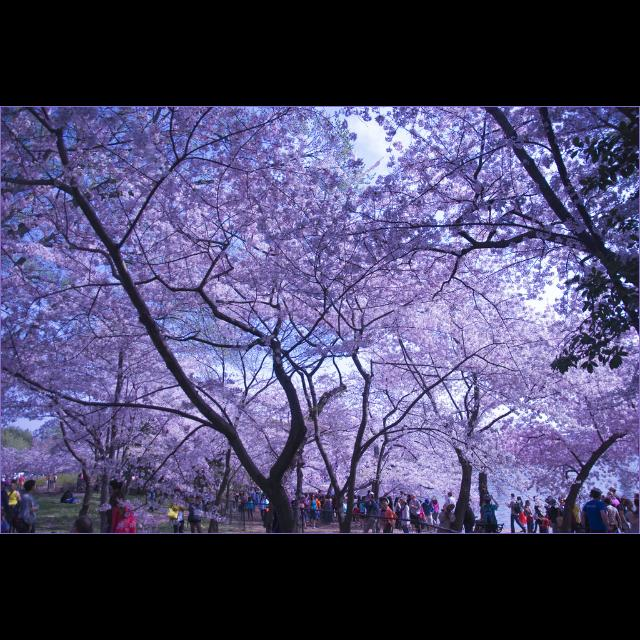Flower: (1, 106, 640, 532)
